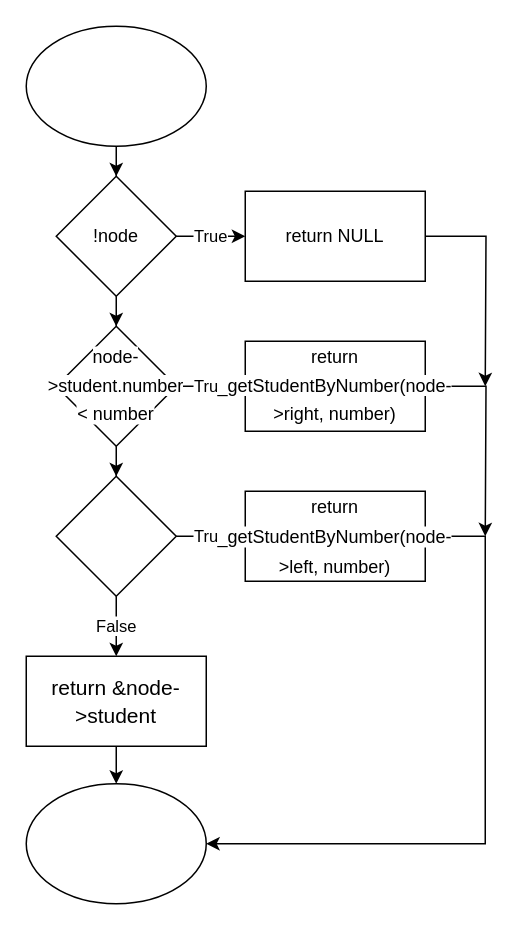
Image size: 525x930. Some labels were removed from this diagram. The shapes that lost their labels are listed below. From the top down, each one's centre as x and y in pixels, then its label:
the point at 115,85: Начало _getStudentByNumber
the point at 115,535: node->student.number > number
the point at 115,843: Конец
